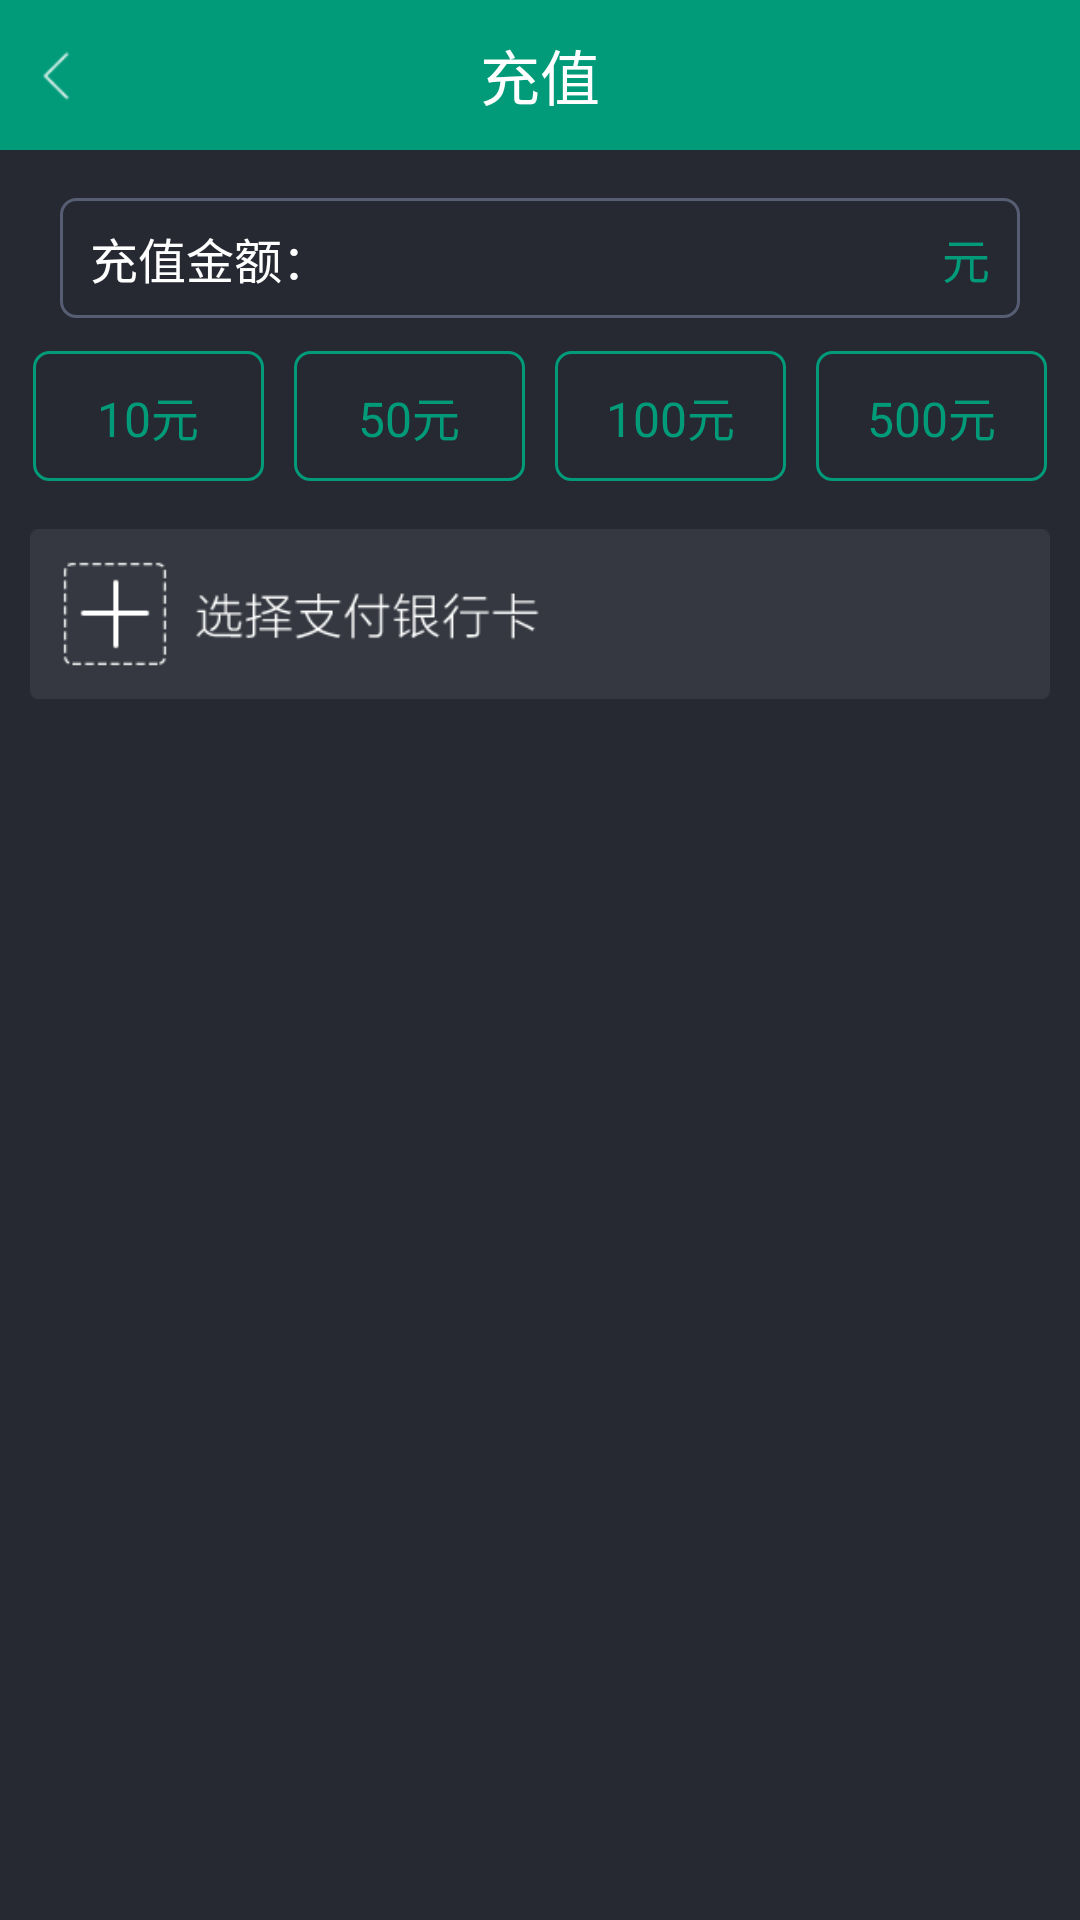

Icons on this 1080x1920 Android screen, each with its box as bbox=[x1, y1, x2, y2]:
back: bbox=[43, 52, 69, 100]
